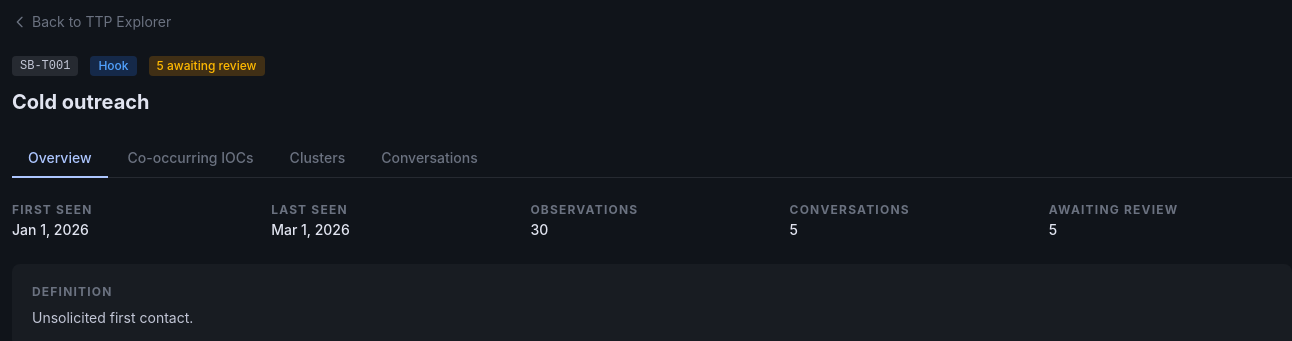
TtpDetail — coverage gaps › conversations tab renders the designed empty state when no conversation carries the TTP
Expected: the heading "Cold outreach" is shown, [12,90,150,114]
Click the button with test id "ttp-detail-tab-conversations". click: (429, 159)
box: [365,140,494,178]
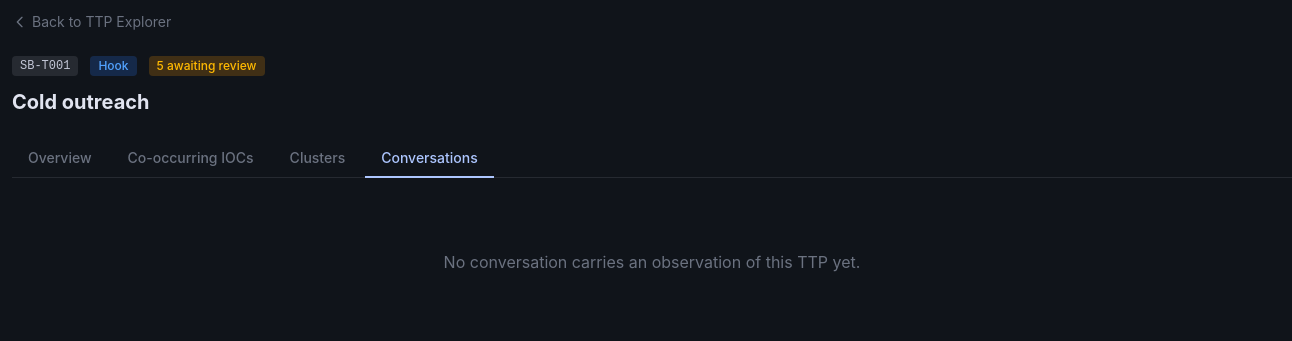
Expected: the text "No conversation carries an observation of this TTP yet." is shown, [444,252,860,272]
